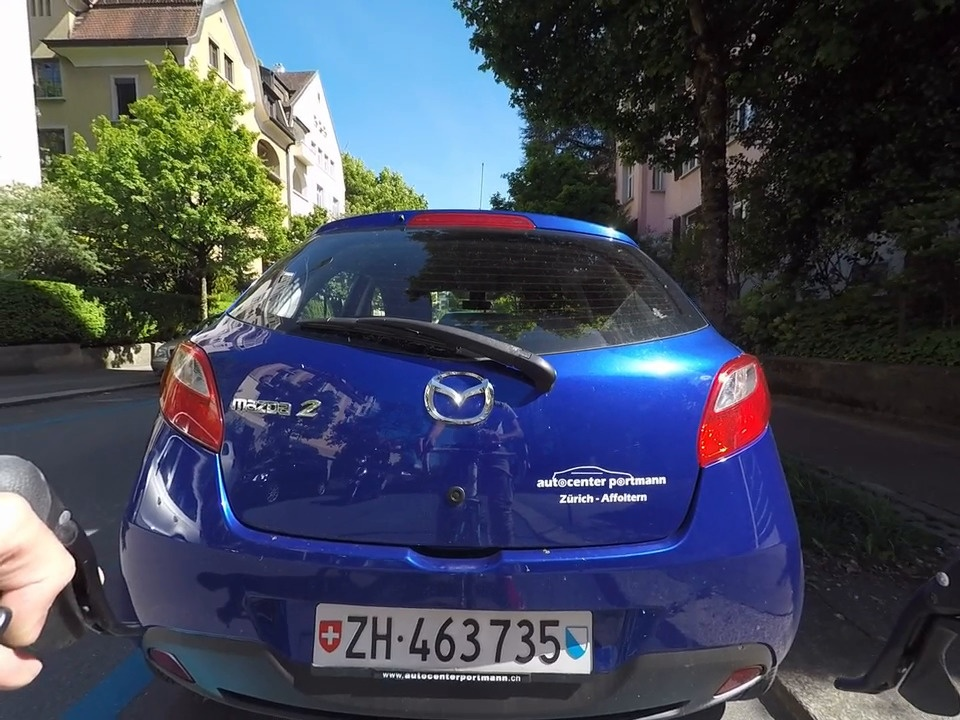car: (102, 196, 822, 720)
